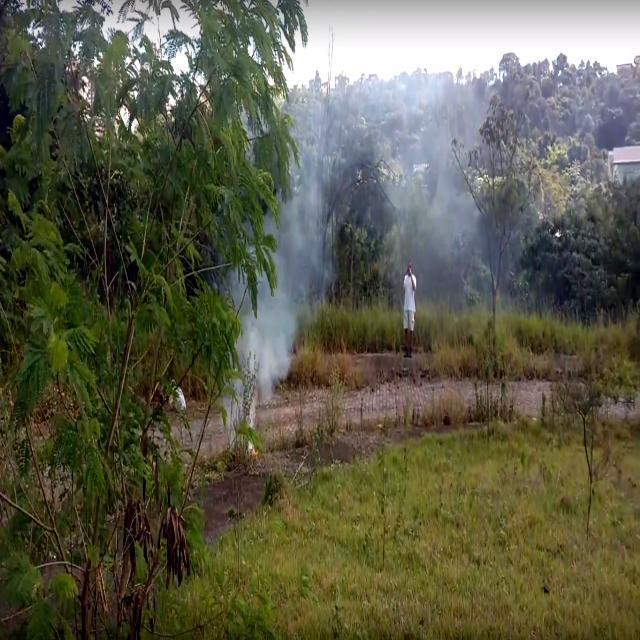Smoke: (378, 0, 609, 305), (225, 99, 332, 356)
